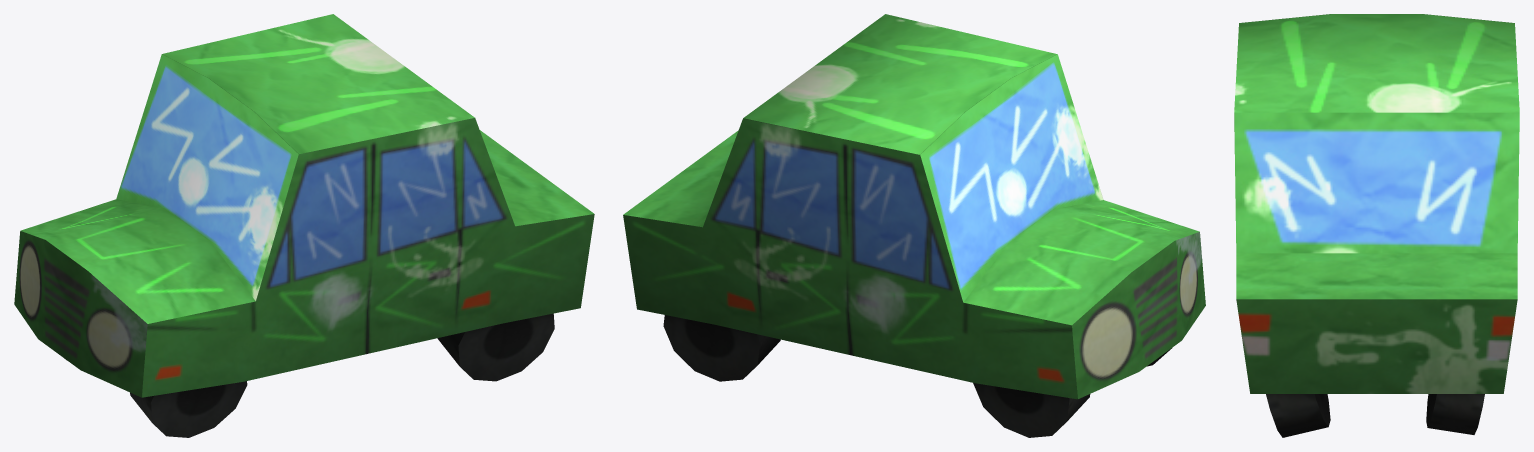
The model's file is car_green.FBX.
3 renders of one model, left to right at view 1: azimuth 30°, elevation 25°; view 2: azimuth 150°, elevation 25°; view 3: azimuth 270°, elevation 25°, orthographic.
Parts seen in each view (by area): view 1: car_green; view 2: car_green; view 3: car_green.
Boxes of the visible parts, x1,y1,x2,y2 form: car_green: [14, 14, 594, 437]; car_green: [623, 14, 1205, 437]; car_green: [1234, 14, 1519, 437].
Bounding box in the file's own units: 16.2 × 10.2 × 8.55.
1 material, 1 textured.
